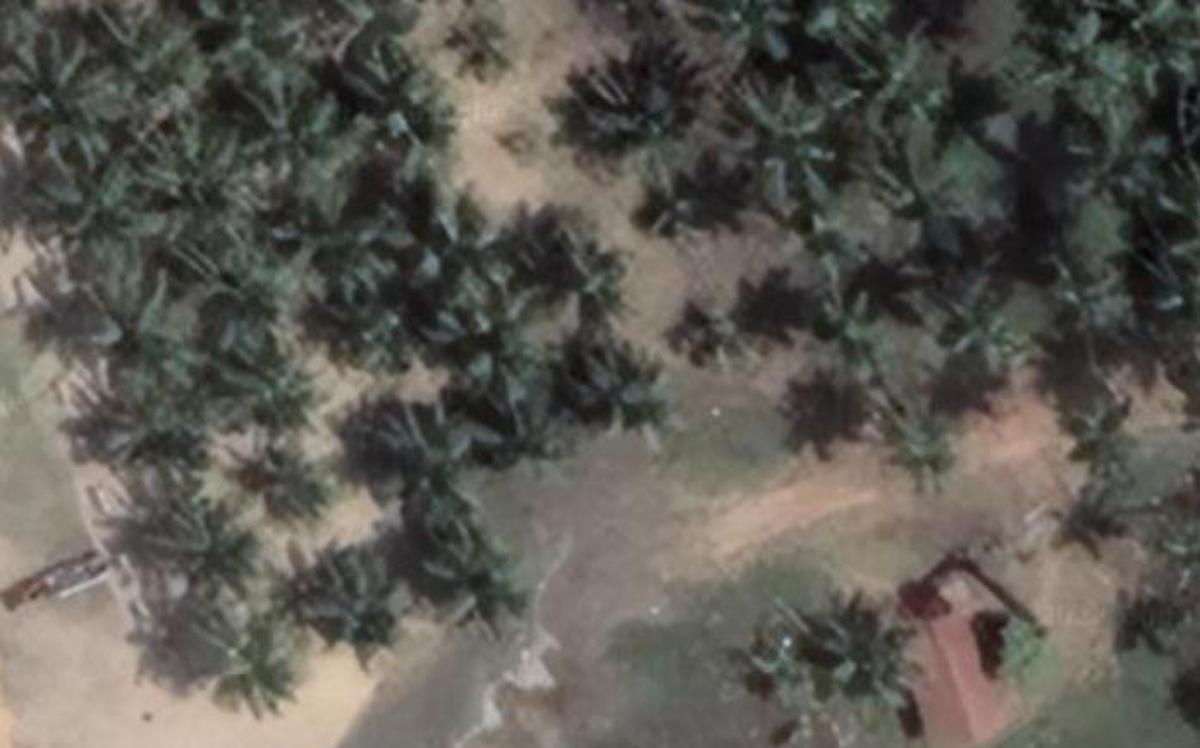coconut: (417, 507, 539, 625), (739, 77, 851, 201), (299, 541, 414, 660), (6, 41, 120, 159), (79, 367, 206, 471), (567, 331, 672, 450), (820, 594, 931, 706), (569, 48, 687, 151), (369, 397, 484, 502), (139, 108, 244, 218), (151, 493, 261, 598), (350, 49, 457, 154), (185, 237, 292, 342), (53, 139, 151, 252), (868, 141, 964, 254), (91, 10, 195, 113), (783, 259, 888, 361), (1060, 89, 1155, 201), (187, 603, 293, 701), (1088, 0, 1200, 92), (82, 271, 187, 366), (452, 297, 558, 390), (433, 202, 527, 306), (481, 381, 584, 474), (539, 214, 630, 319), (343, 182, 434, 285), (1057, 233, 1146, 338), (225, 340, 331, 428), (651, 151, 746, 247), (244, 433, 342, 526), (852, 32, 950, 122), (878, 393, 966, 491), (242, 87, 336, 177), (1055, 376, 1150, 462), (942, 278, 1029, 371), (1059, 469, 1143, 557), (340, 282, 438, 357), (706, 0, 806, 73), (300, 0, 417, 60), (446, 0, 527, 84), (673, 297, 754, 371)
